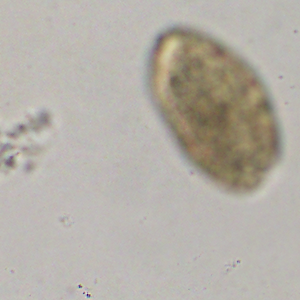Fasciola_hepatica_egg: (149, 26, 282, 194)
